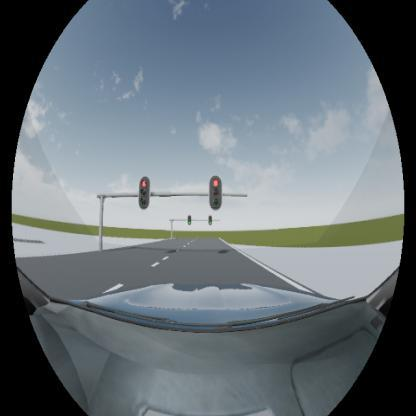Green Light: (208, 215, 212, 225), (188, 216, 191, 225)
Red Light: (209, 174, 222, 210), (138, 177, 150, 210)
